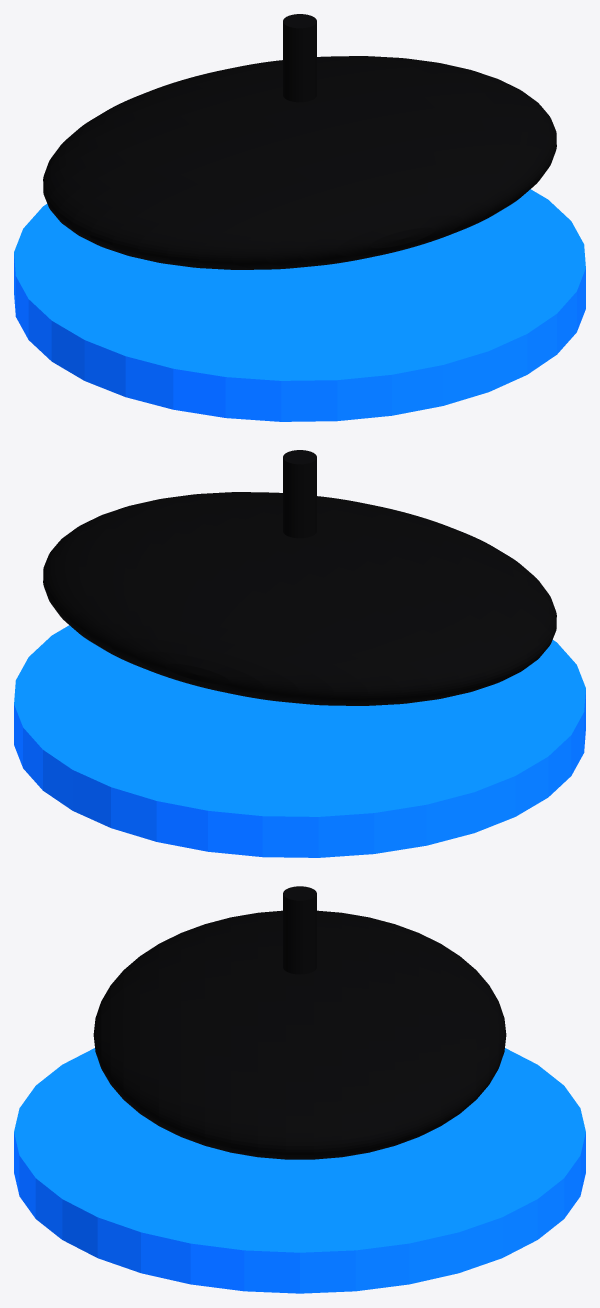
Rendered from french_beret.dae.
3 renders of one model, top to bottom at view 1: azimuth 30°, elevation 25°; view 2: azimuth 150°, elevation 25°; view 3: azimuth 270°, elevation 25°, orthographic.
Visible parts, largest first — view 1: 10_04_Popular_French_Beret_ROOT_base, 10_04_Popular_French_Beret_part_01, 10_04_Popular_French_Beret_part_02; view 2: 10_04_Popular_French_Beret_ROOT_base, 10_04_Popular_French_Beret_part_01, 10_04_Popular_French_Beret_part_02; view 3: 10_04_Popular_French_Beret_ROOT_base, 10_04_Popular_French_Beret_part_01, 10_04_Popular_French_Beret_part_02.
Part boxes in pixels (left/top/right/bottom): 10_04_Popular_French_Beret_ROOT_base: left=14, top=189, right=585, bottom=421; 10_04_Popular_French_Beret_part_01: left=43, top=56, right=556, bottom=269; 10_04_Popular_French_Beret_part_02: left=283, top=14, right=316, bottom=102; 10_04_Popular_French_Beret_ROOT_base: left=14, top=625, right=585, bottom=857; 10_04_Popular_French_Beret_part_01: left=43, top=492, right=556, bottom=705; 10_04_Popular_French_Beret_part_02: left=283, top=450, right=316, bottom=538; 10_04_Popular_French_Beret_ROOT_base: left=14, top=1048, right=585, bottom=1293; 10_04_Popular_French_Beret_part_01: left=93, top=910, right=506, bottom=1159; 10_04_Popular_French_Beret_part_02: left=283, top=886, right=316, bottom=974.
Bounding box in the file's own units: 0.76 × 0.4095 × 0.76.
